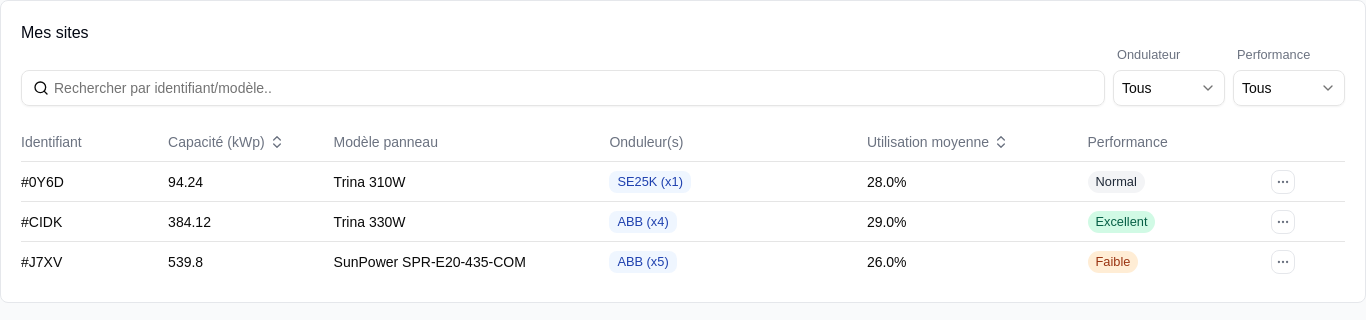
Test: SitesBlock › filters sites by search value matching the id
Type "CIDK" into the field with test id "sites-search-input" at coordinates (563, 88), box [21,70,1105,106]
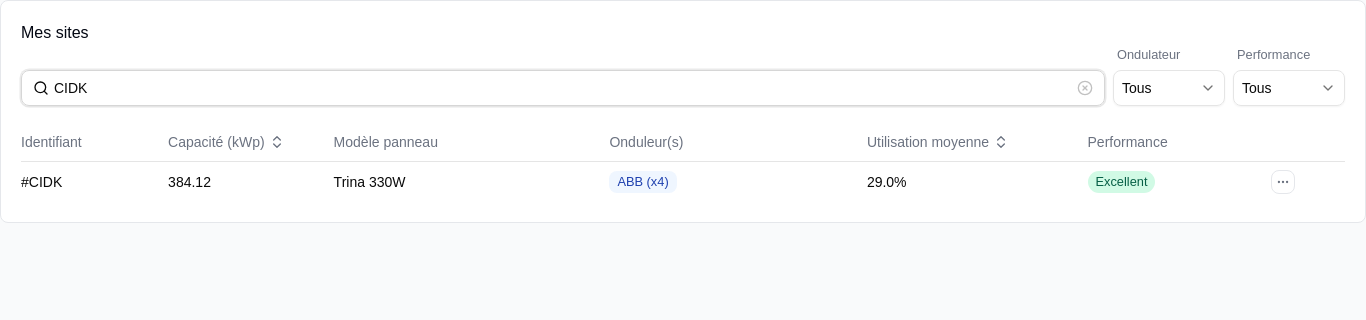
Expected: the text "#CIDK" is shown, [21,162,168,202]
Expected: the text "#0Y6D" is gone
